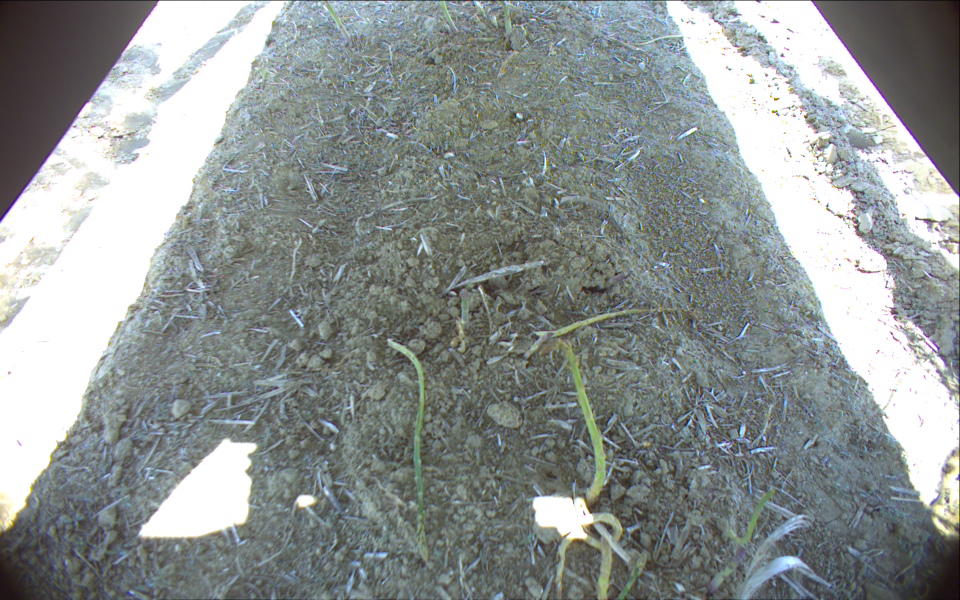aspa: (386, 338, 431, 564), (565, 338, 608, 505), (708, 488, 775, 594), (550, 513, 623, 600), (539, 304, 687, 340), (615, 550, 652, 600), (322, 1, 355, 45), (629, 32, 704, 48), (595, 535, 613, 600), (437, 1, 462, 34), (460, 291, 476, 329), (498, 1, 515, 35)
